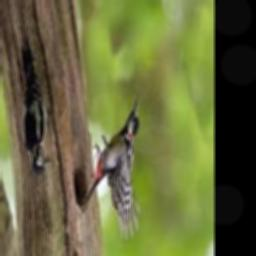Woodpecker: (85, 100, 139, 239), (21, 40, 52, 175)
